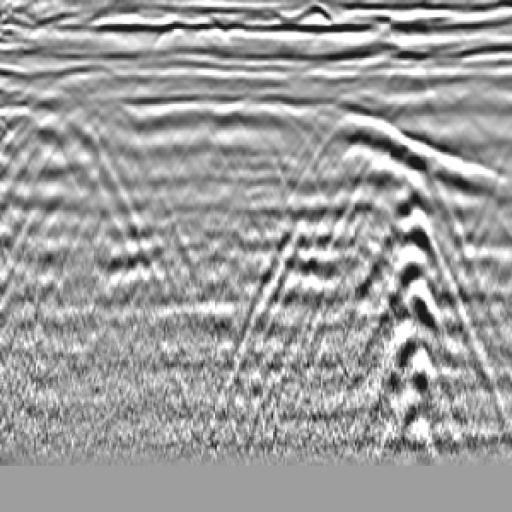non-metallic: (318, 92, 508, 460)
